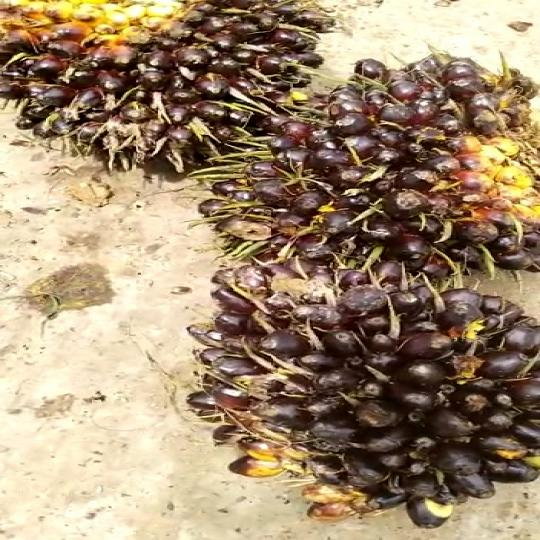mentah: (180, 286, 540, 523), (209, 49, 540, 289), (0, 0, 334, 193)
